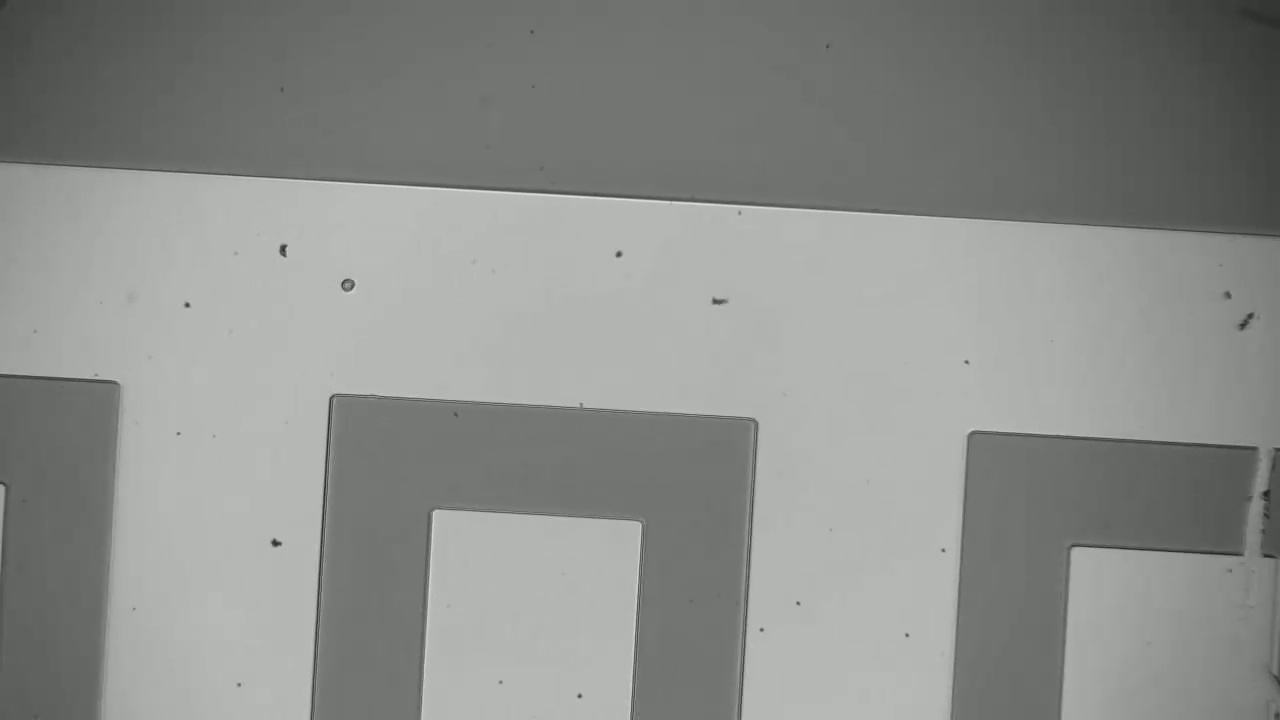Short_circuit: (1210, 427, 1279, 580)
